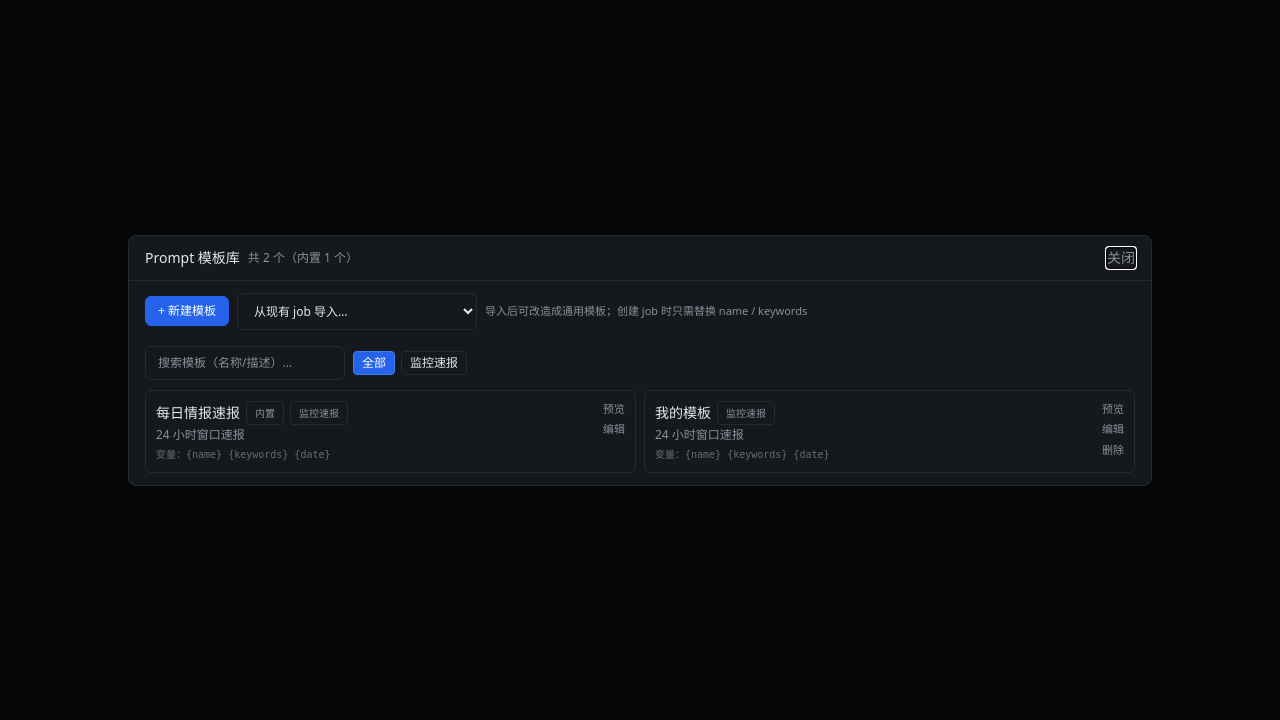
Test: TemplateLibrary › imports an existing job into the form
Expected: the text "共 2 个（内置 1 个）" is shown, x1=248 y1=250 x2=358 y2=266
Select "research/demo" in the dropdown showing "从现有 job 导入…" at (357, 311), box x1=237 y1=292 x2=477 y2=330
(page scrolled)
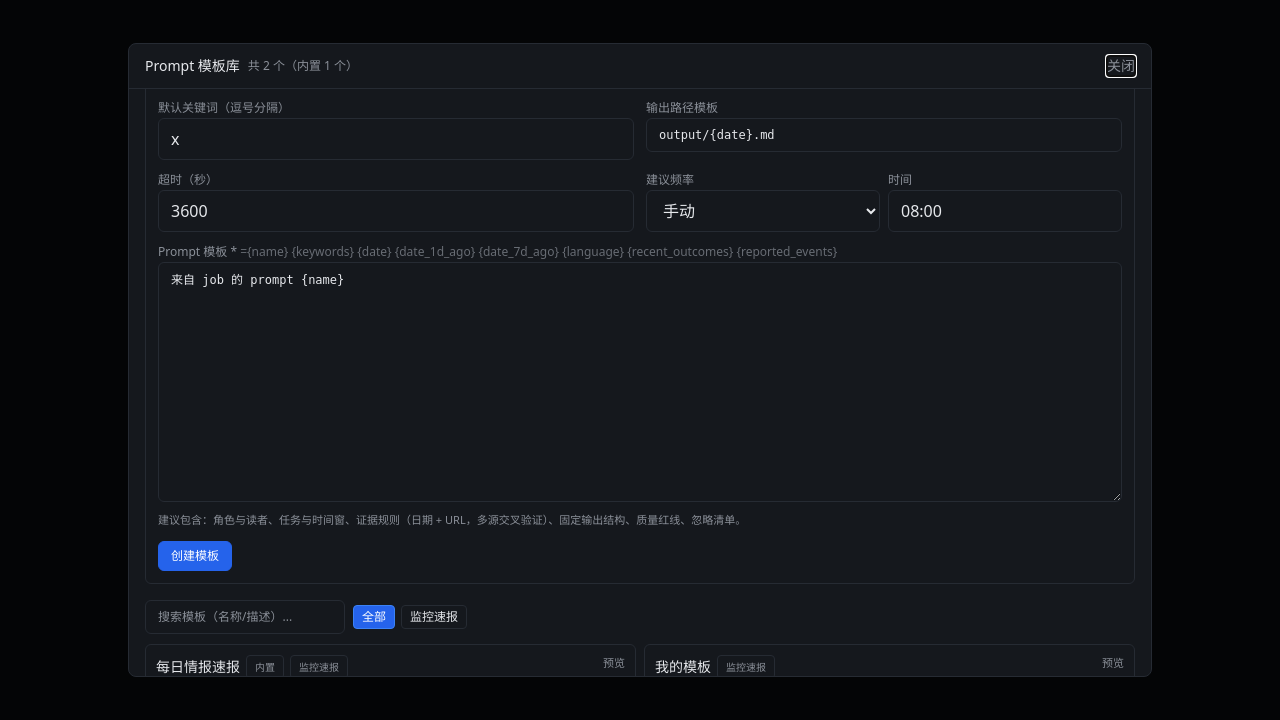
Expected: the text box showing "来自 job 的 prompt {name}" is shown, x1=158 y1=262 x2=1122 y2=502
